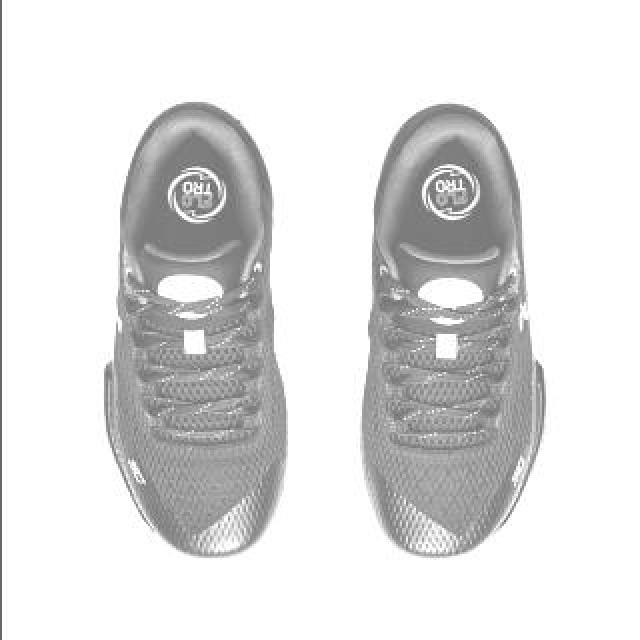shoe: (348, 83, 554, 559), (97, 87, 301, 561)
